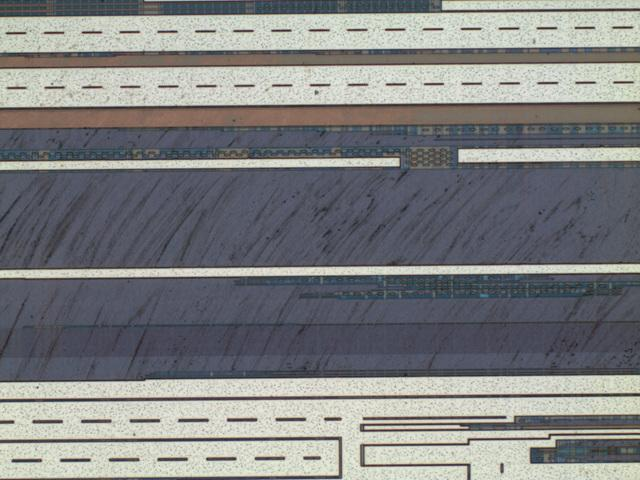SCRATCH: (1, 121, 640, 382)
